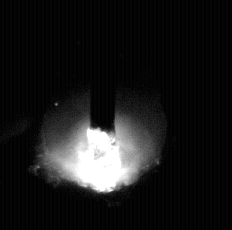arame: (90, 0, 117, 135)
poca: (41, 0, 166, 230)
